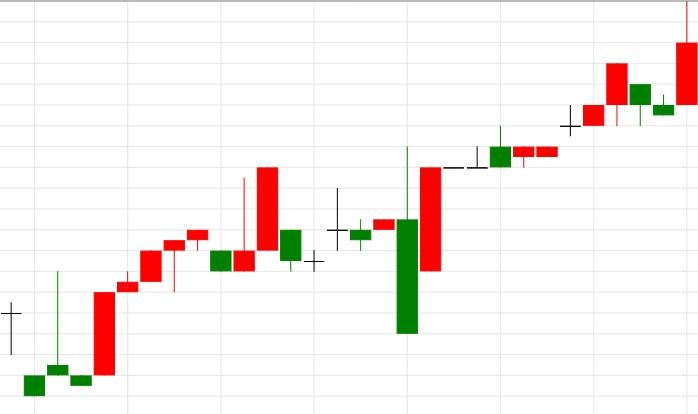inverse_hammer_rise: (186, 178, 256, 273)
three_white_soldiers_rise: (46, 249, 162, 386)
